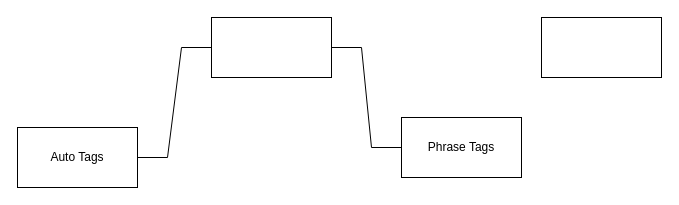
This 679x205 diagram has some shape labels left out. The box of each missing label's shape, as (x1, y1, x2, y2) in pixels:
AutoTags-Product: (540, 16, 662, 78)
Watchtower Data: (210, 16, 332, 78)
